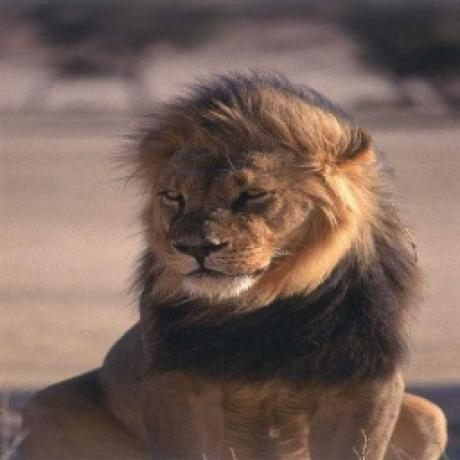Lion: (23, 66, 450, 460)
